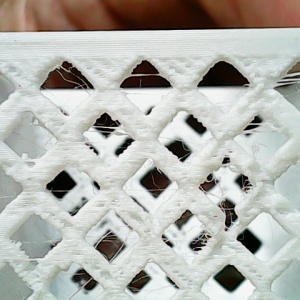3dpstringing: (199, 164, 252, 209), (235, 122, 294, 158), (115, 69, 174, 103), (47, 63, 95, 103), (90, 227, 140, 265), (163, 224, 213, 261), (125, 167, 181, 197), (84, 122, 132, 155), (155, 132, 207, 162), (51, 268, 95, 299), (129, 272, 178, 297), (36, 121, 61, 152), (273, 69, 300, 97), (5, 254, 48, 267), (235, 82, 255, 102), (48, 186, 75, 197)
3dpunderextrusion: (42, 208, 83, 243), (249, 176, 284, 216), (206, 211, 244, 244), (82, 256, 124, 284)
